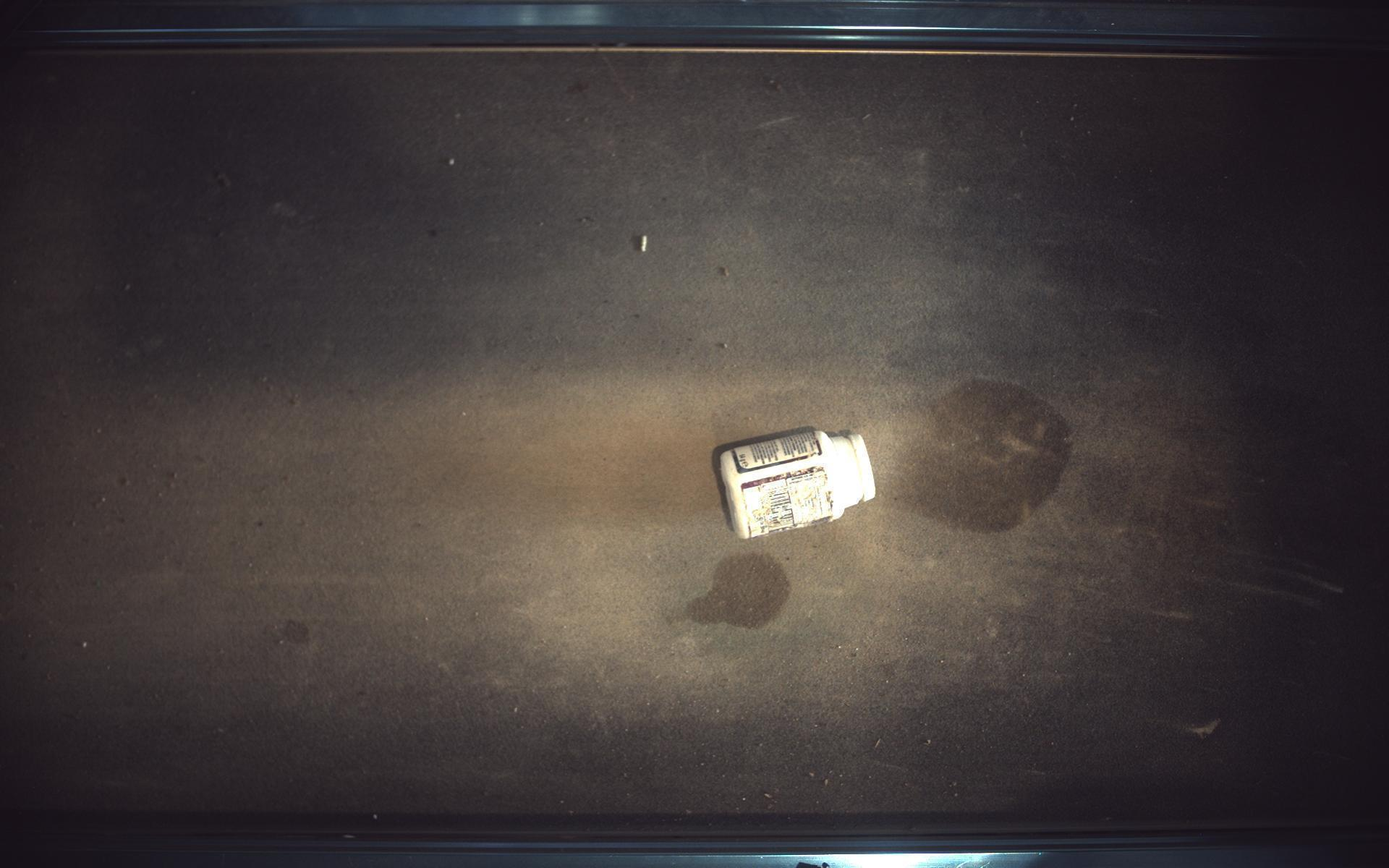general_w: (721, 426, 877, 539)
